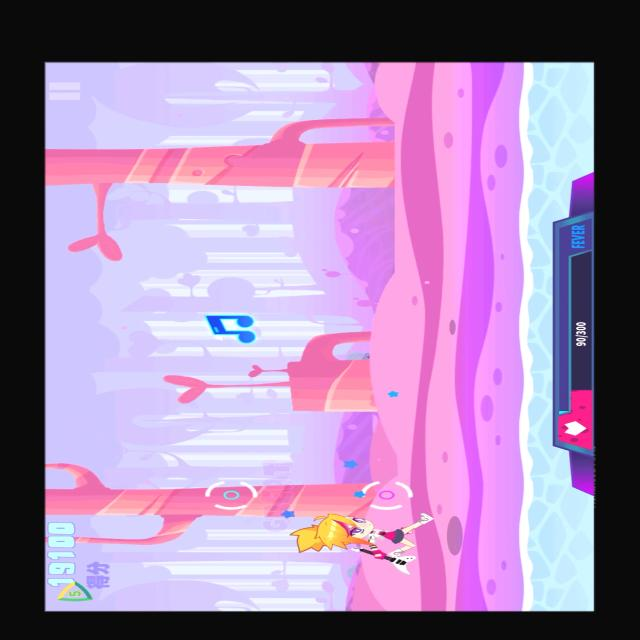Music note: (202, 306, 264, 346)
